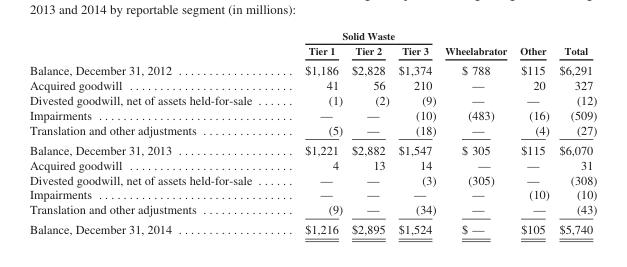table: (28, 29, 596, 235)
table column: (28, 29, 277, 235), (439, 29, 512, 235), (277, 29, 346, 235), (346, 29, 393, 235), (393, 29, 439, 235), (553, 29, 596, 235), (512, 29, 553, 235)
table column header: (28, 29, 596, 59)
table row: (28, 59, 596, 77), (28, 139, 596, 157), (28, 201, 596, 219), (28, 42, 596, 59), (28, 122, 596, 139), (28, 219, 596, 235), (28, 77, 596, 92), (28, 92, 596, 107), (28, 107, 596, 122), (28, 171, 596, 186), (28, 186, 596, 201), (28, 157, 596, 171), (28, 29, 596, 42)
table spanning cell: (439, 29, 512, 59), (277, 29, 439, 42), (553, 29, 596, 59), (512, 29, 553, 59)
